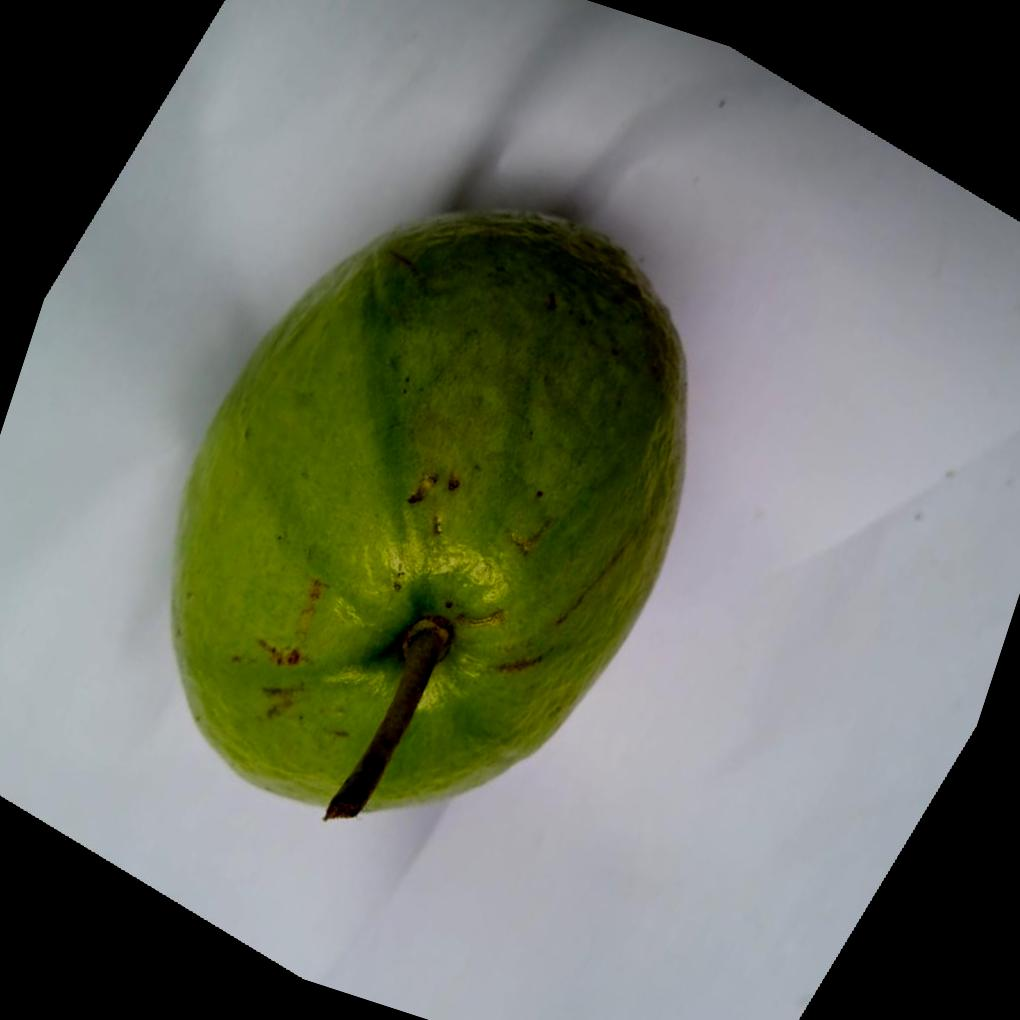FreshGuava: (170, 204, 689, 817)
